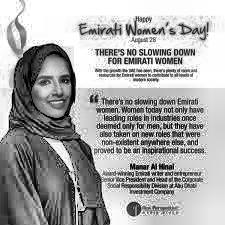happy: (24, 47, 75, 124)
